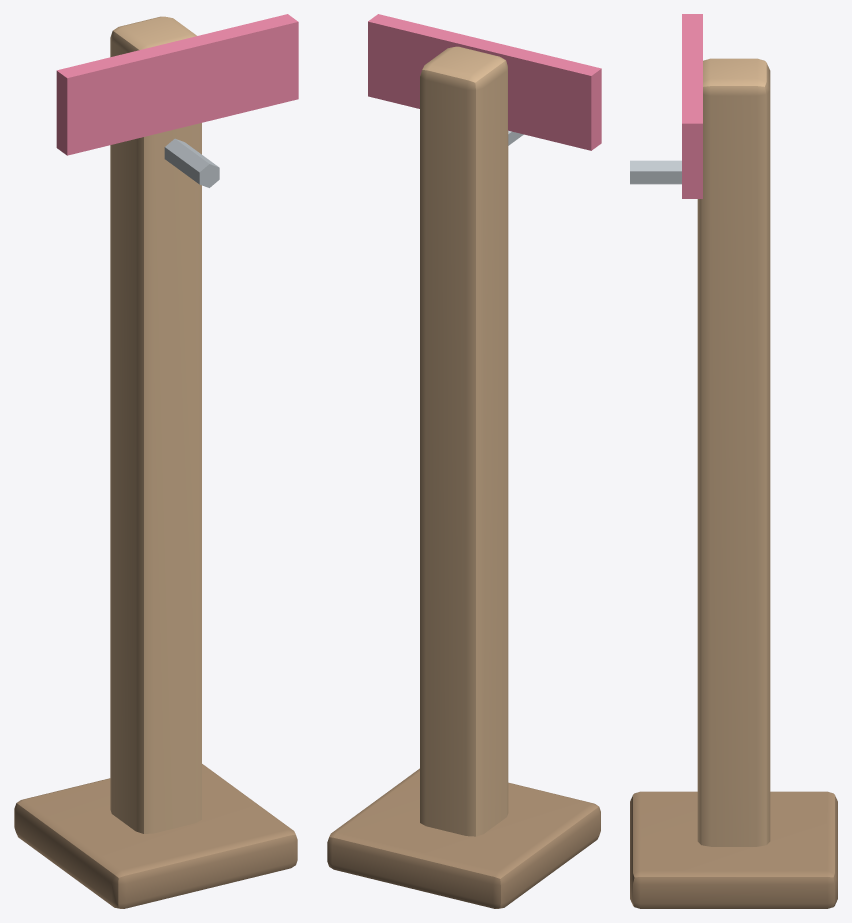
Rendered from RescuePost.fbx.
The picture shows the model from 3 angles, left to right: view 1: azimuth 30°, elevation 25°; view 2: azimuth 150°, elevation 25°; view 3: azimuth 270°, elevation 25°; orthographic projection. The views are drawn at different scales.
Parts seen in each view (by area): view 1: RescuePost; view 2: RescuePost; view 3: RescuePost.
Part boxes in pixels (x1,y1,x2,y2): RescuePost: (14, 14, 298, 908); RescuePost: (327, 14, 601, 908); RescuePost: (630, 14, 837, 908).
Bounding box in the file's own units: 0.5 × 1.7 × 0.4.
